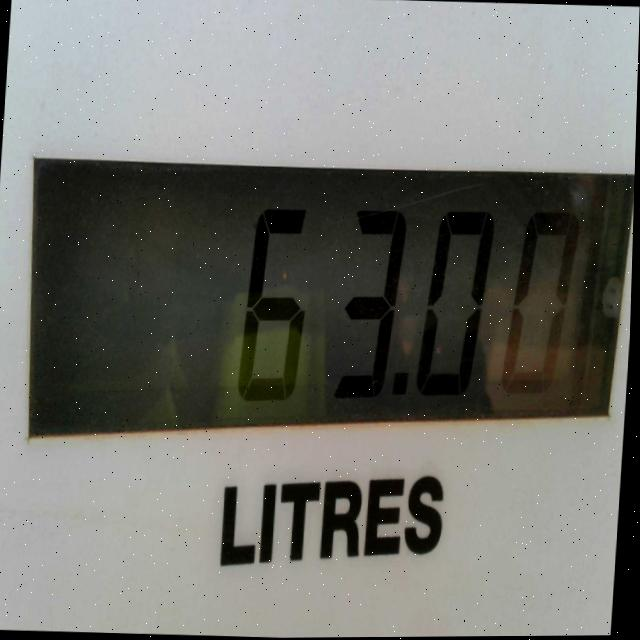.: (391, 367, 412, 401)
0: (495, 210, 583, 409), (419, 210, 497, 409)
3: (324, 205, 407, 409)
6: (227, 199, 318, 425)
